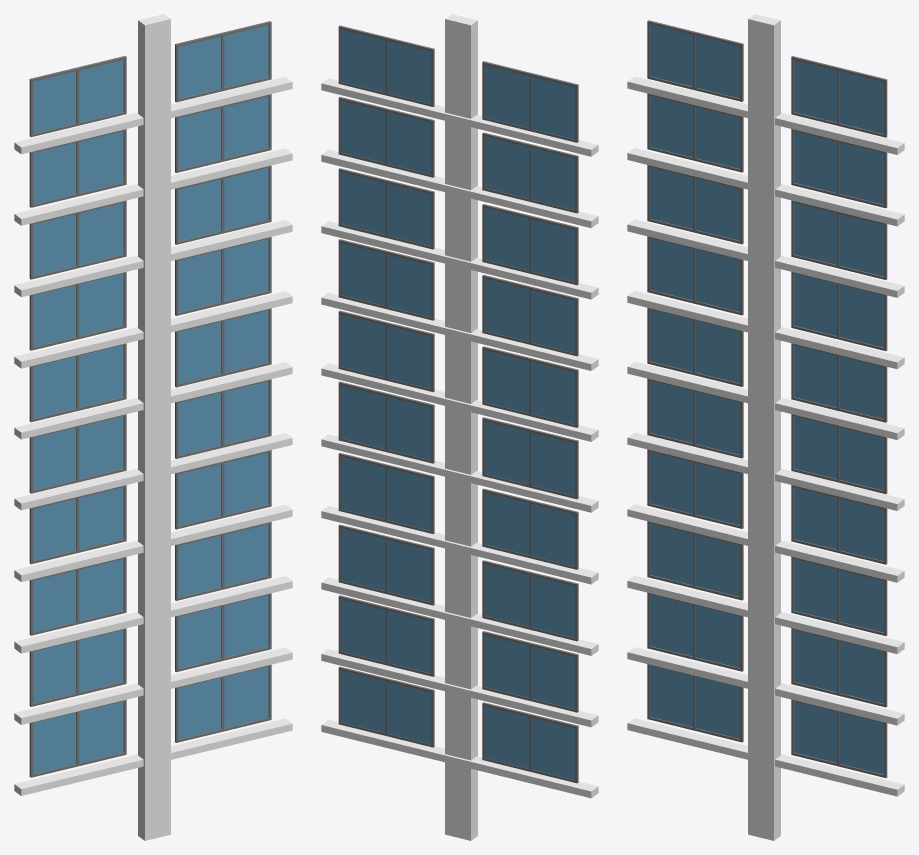
The model's file is haiCuaSoGiua.glb.
3 renders of one model, left to right at view 1: azimuth 30°, elevation 25°; view 2: azimuth 150°, elevation 25°; view 3: azimuth 330°, elevation 25°, orthographic.
Parts seen in each view (by area): view 1: Box164, Box276, Box266, Box271, Box261, Box275, Box265, Box269, Box279, Box264, Box274, Box277 (+39 smaller); view 2: Box164, Box266, Box261, Box265, Box269, Box264, Box276, Box267, Box263, Box268, Box271, Box262 (+39 smaller); view 3: Box164, Box276, Box266, Box271, Box261, Box275, Box265, Box269, Box264, Box279, Box274, Box273 (+39 smaller).
Part boxes in pixels (x1=…): Box164: x1=138, y1=14, x2=170, y2=840; Box276: x1=33, y1=416, x2=123, y2=489; Box266: x1=178, y1=381, x2=268, y2=455; Box271: x1=33, y1=60, x2=123, y2=133; Box261: x1=178, y1=25, x2=268, y2=98; Box275: x1=33, y1=345, x2=123, y2=418; Box265: x1=178, y1=310, x2=268, y2=383; Box269: x1=178, y1=595, x2=268, y2=668; Box279: x1=33, y1=630, x2=123, y2=703; Box264: x1=178, y1=239, x2=268, y2=312; Box274: x1=33, y1=273, x2=123, y2=346; Box277: x1=33, y1=487, x2=123, y2=560; Box164: x1=445, y1=14, x2=477, y2=840; Box266: x1=341, y1=385, x2=431, y2=460; Box261: x1=341, y1=29, x2=431, y2=103; Box265: x1=341, y1=314, x2=431, y2=388; Box269: x1=341, y1=599, x2=431, y2=673; Box264: x1=341, y1=243, x2=431, y2=317; Box276: x1=485, y1=421, x2=574, y2=495; Box267: x1=341, y1=457, x2=431, y2=530; Box263: x1=341, y1=172, x2=431, y2=246; Box268: x1=341, y1=528, x2=431, y2=602; Box271: x1=485, y1=65, x2=574, y2=139; Box262: x1=341, y1=100, x2=431, y2=174; Box164: x1=748, y1=14, x2=780, y2=840; Box276: x1=650, y1=380, x2=739, y2=454; Box266: x1=794, y1=416, x2=883, y2=490; Box271: x1=650, y1=24, x2=739, y2=98; Box261: x1=794, y1=60, x2=883, y2=133; Box275: x1=650, y1=309, x2=739, y2=383; Box265: x1=794, y1=345, x2=883, y2=418; Box269: x1=794, y1=630, x2=883, y2=703; Box264: x1=794, y1=273, x2=883, y2=347; Box279: x1=650, y1=594, x2=739, y2=667; Box274: x1=650, y1=238, x2=739, y2=311; Box273: x1=650, y1=167, x2=739, y2=240.
Size of the model in its own units: 11.93 by 34.33 by 0.6586.
